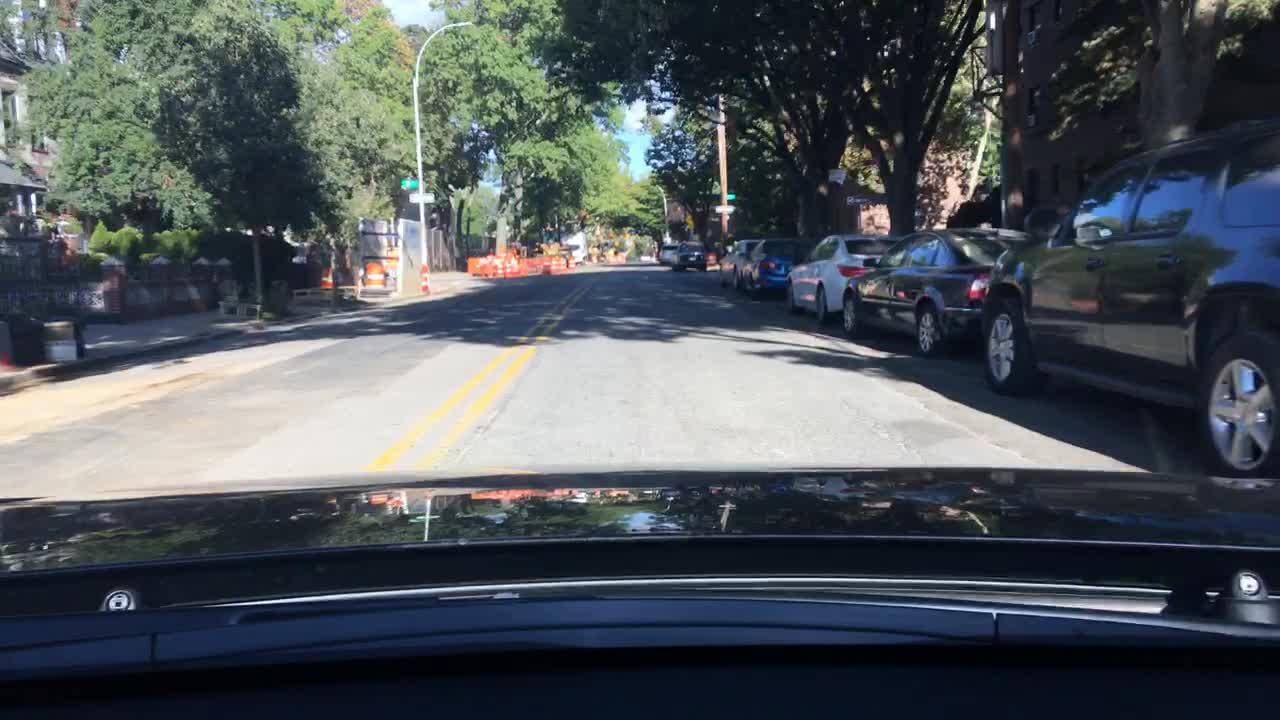car: (976, 113, 1278, 473), (838, 221, 1035, 359), (782, 233, 906, 322), (0, 214, 66, 281), (740, 235, 805, 299), (718, 238, 762, 290), (670, 238, 707, 273), (52, 219, 81, 252), (656, 240, 680, 265), (565, 241, 587, 265), (638, 253, 649, 263)
traffic sign: (407, 193, 435, 203), (710, 204, 736, 213), (398, 177, 417, 188), (847, 195, 872, 203), (726, 192, 736, 202)
